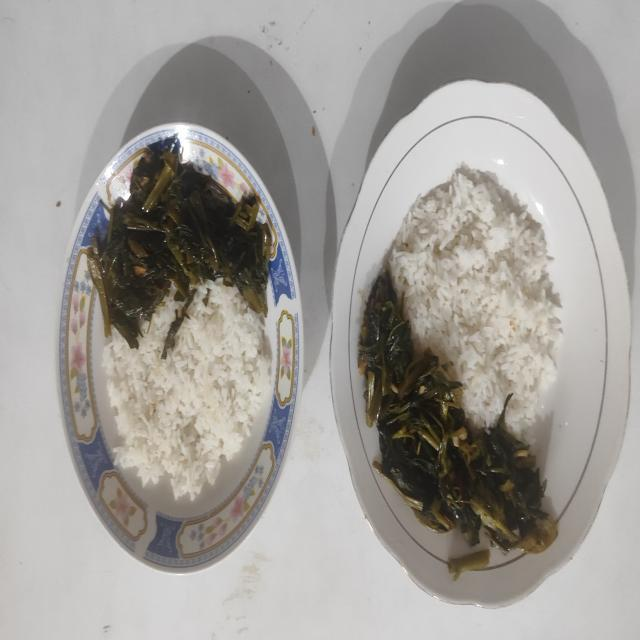nasi_putih: (388, 166, 562, 444), (102, 278, 271, 501)
tumis_kangkung: (358, 268, 558, 557), (88, 135, 280, 359)
